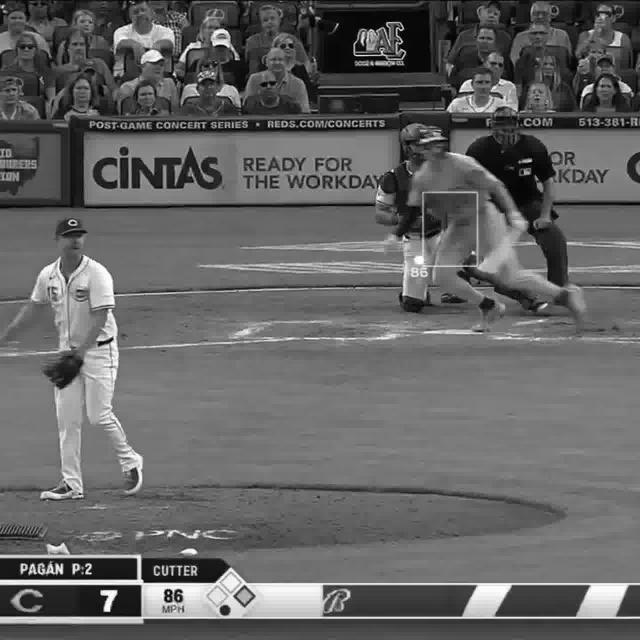base: (419, 325, 483, 339)
baseball_glove: (37, 347, 92, 391)
bat: (482, 228, 524, 277)
shoe: (39, 472, 88, 502), (118, 458, 151, 502), (564, 283, 592, 333), (476, 300, 506, 336), (521, 292, 552, 312)
